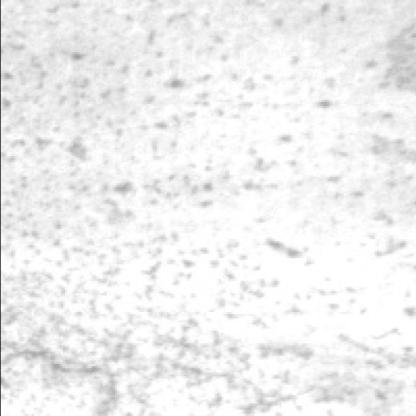pitted_surface: (12, 6, 416, 316), (6, 300, 370, 414)
